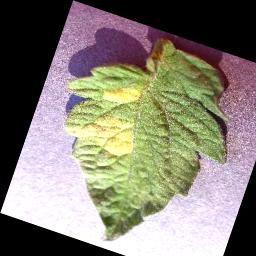Leaf_Mold: (65, 98, 142, 163), (97, 74, 145, 112)
